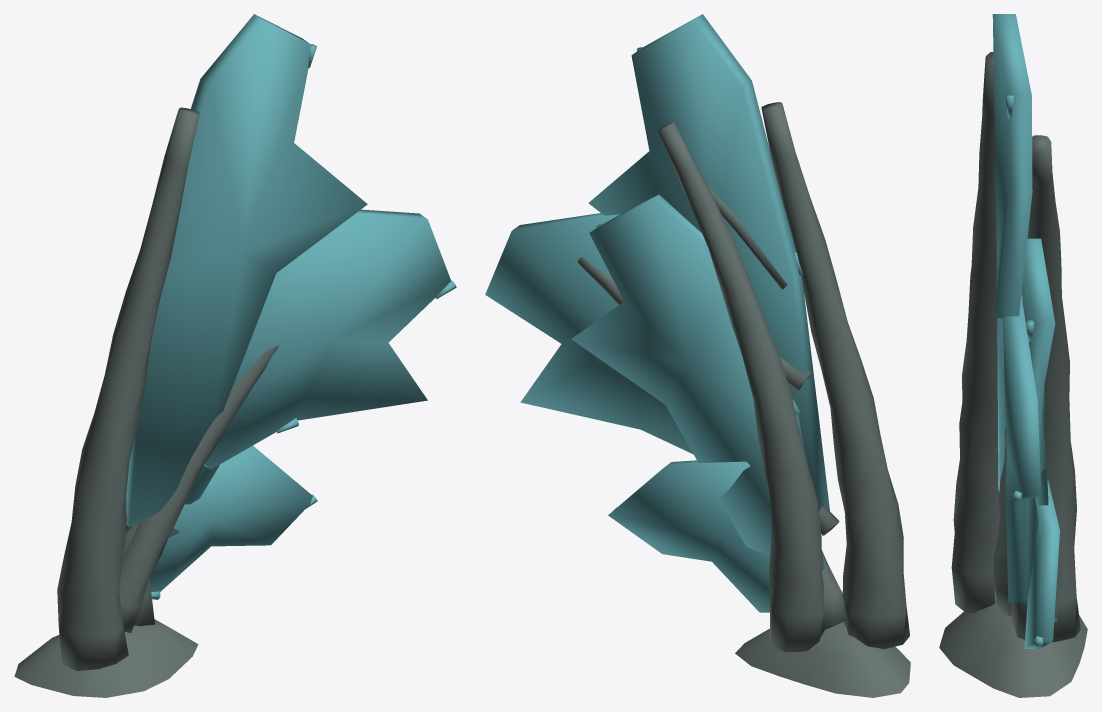
Rendered from landmark_great_sail_a.glb.
3 renders of one model, left to right at view 1: azimuth 30°, elevation 25°; view 2: azimuth 150°, elevation 25°; view 3: azimuth 270°, elevation 25°, orthographic. The views are drawn at different scales.
Visible parts, largest first — view 1: landmark_great_sail_a_lod0; view 2: landmark_great_sail_a_lod0; view 3: landmark_great_sail_a_lod0.
Boxes of the visible parts, x1,y1,x2,y2 form: landmark_great_sail_a_lod0: [14, 14, 456, 697]; landmark_great_sail_a_lod0: [485, 14, 910, 697]; landmark_great_sail_a_lod0: [939, 14, 1087, 697].
Size of what is drawn, in the model's own units: 6.92 by 9.55 by 1.8.
